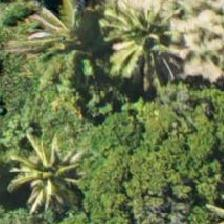coconut_tree: (1, 123, 91, 213), (104, 2, 194, 92), (24, 0, 114, 58)
